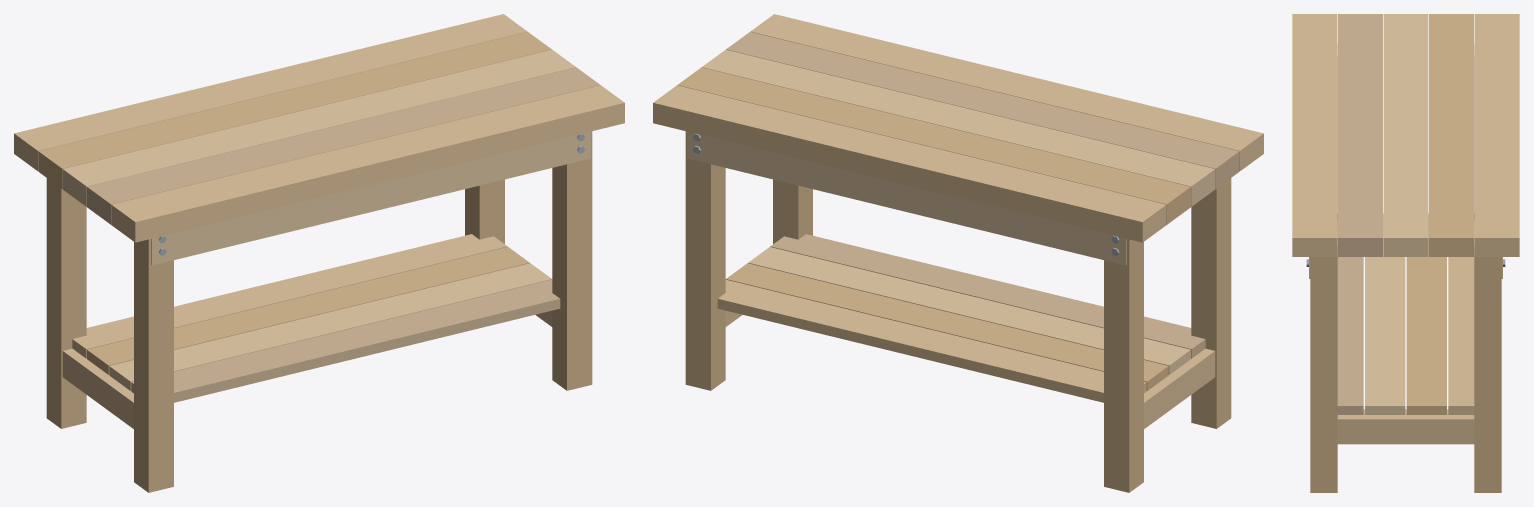
File: SHOP_Workbench.glb
3 renders of one model, left to right at view 1: azimuth 30°, elevation 25°; view 2: azimuth 150°, elevation 25°; view 3: azimuth 270°, elevation 25°, orthographic. The views are drawn at different scales.
Parts seen in each view (by area): view 1: Legs, Top5, Top2, Top4, Top1, Top3, Shelf4, Apron, Shelf2, Shelf3, Shelf1, ShelfCleats; view 2: Legs, Top1, Top2, Top4, Top3, Top5, Shelf1, Apron, Shelf3, Shelf2, Shelf4, ShelfCleats; view 3: Legs, Top1, Top3, Top5, Top2, Top4, Shelf2, Shelf3, Shelf1, Shelf4, ShelfCleats.
Boxes of the visible parts, x1,y1,x2,y2 form: Legs: [46, 131, 592, 492]; Top5: [111, 85, 624, 242]; Top2: [38, 32, 551, 188]; Top4: [87, 67, 600, 224]; Top1: [14, 14, 527, 170]; Top3: [62, 49, 576, 206]; Shelf4: [131, 279, 560, 402]; Apron: [151, 131, 590, 265]; Shelf2: [87, 247, 529, 374]; Shelf3: [109, 263, 551, 390]; Shelf1: [72, 234, 507, 358]; ShelfCleats: [62, 279, 552, 428]; Legs: [685, 131, 1231, 492]; Top1: [653, 85, 1166, 242]; Top2: [677, 67, 1190, 224]; Top4: [726, 32, 1239, 188]; Top3: [701, 49, 1215, 206]; Top5: [750, 14, 1263, 170]; Shelf1: [717, 279, 1146, 402]; Apron: [687, 131, 1126, 265]; Shelf3: [748, 247, 1190, 374]; Shelf2: [726, 263, 1168, 390]; Shelf4: [770, 234, 1205, 358]; ShelfCleats: [725, 279, 1215, 428]; Legs: [1310, 43, 1501, 492]; Top1: [1474, 14, 1519, 256]; Top3: [1383, 14, 1428, 256]; Top5: [1292, 14, 1337, 256]; Top2: [1429, 14, 1473, 256]; Top4: [1338, 14, 1382, 256]; Shelf2: [1406, 213, 1446, 414]; Shelf3: [1365, 213, 1405, 414]; Shelf1: [1448, 213, 1474, 414]; Shelf4: [1337, 213, 1363, 414]; ShelfCleats: [1337, 409, 1474, 444].
Bounding box in the file's own units: 1.65 × 0.913 × 0.708.
